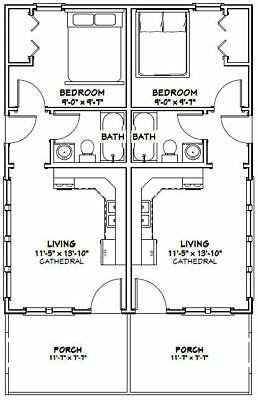door: (132, 275, 174, 319), (88, 280, 127, 312), (171, 111, 208, 143), (221, 112, 251, 149), (211, 78, 247, 108), (10, 79, 46, 108), (10, 113, 34, 147), (53, 110, 79, 141)
room: (4, 4, 255, 316)
window: (1, 177, 15, 300), (244, 175, 255, 303), (179, 306, 232, 317), (23, 304, 74, 315), (30, 1, 66, 14), (195, 1, 224, 9)
